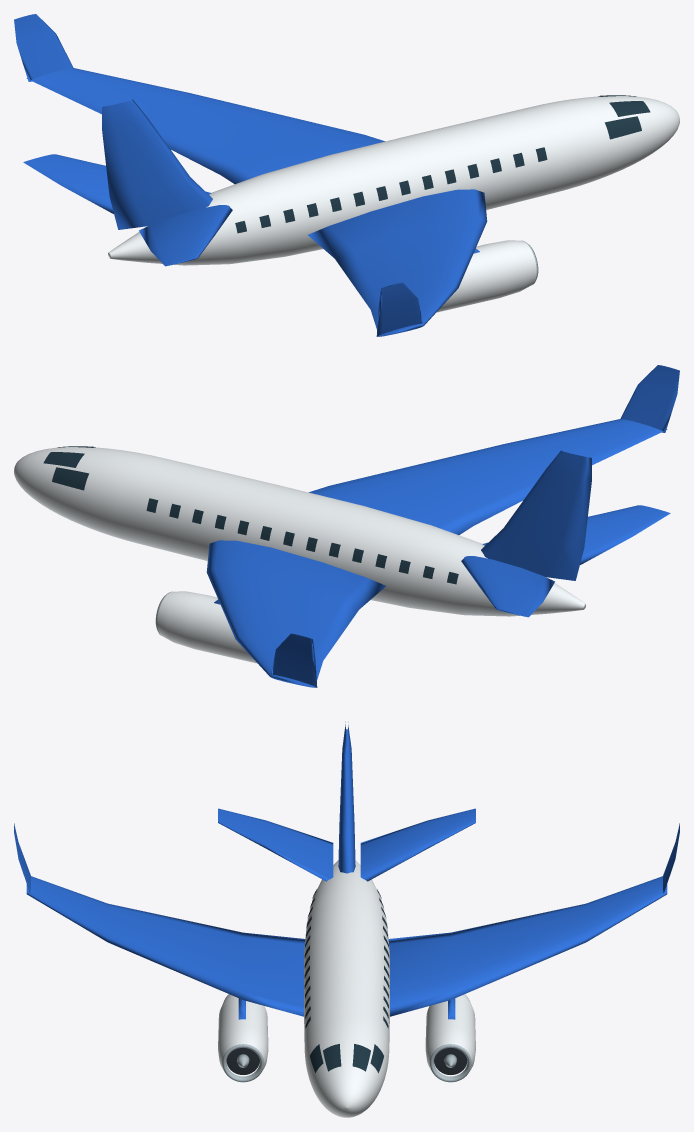
File: airplane.glb
3 renders of one model, top to bottom at view 1: azimuth 30°, elevation 25°; view 2: azimuth 150°, elevation 25°; view 3: azimuth 270°, elevation 25°, orthographic. The views are drawn at different scales.
Parts seen in each view (by area): view 1: fuselage, wing-right, wing-left, tail-fin, engine-left, tailplane-left, tailplane-right, winglet-right, winglet-left, cockpit-side-left; view 2: fuselage, wing-left, wing-right, tail-fin, engine-right, tailplane-right, tailplane-left, winglet-left, winglet-right, cockpit-side-right; view 3: fuselage, wing-left, wing-right, tailplane-left, tailplane-right, engine-left, engine-right, tail-fin, engine-intake-left, engine-intake-right.
Part boxes in pixels (x1,y1,x2,y2): fuselage: (108,96,679,265); wing-right: (26,68,384,183); wing-left: (308,189,487,336); tail-fin: (102,99,212,229); engine-left: (436,240,536,312); tailplane-left: (139,205,232,266); tailplane-right: (23,154,211,213); winglet-right: (14,14,73,81); winglet-left: (376,282,422,336); cockpit-side-left: (604,116,641,139); fuselage: (14,447,585,616); wing-left: (309,419,667,534); wing-right: (206,540,385,687); tail-fin: (481,450,591,580); engine-right: (157,591,257,663); tailplane-right: (461,556,554,617); tailplane-left: (482,505,670,564); winglet-left: (620,365,679,432); winglet-right: (271,633,317,687); cockpit-side-right: (52,467,89,490); fuselage: (304,860,389,1117); wing-left: (26,876,305,1016); wing-right: (388,876,667,1016); tailplane-left: (218,808,333,881); tailplane-right: (360,808,475,881); engine-left: (218,994,268,1071); engine-right: (425,994,475,1071); tail-fin: (338,721,355,873); engine-intake-left: (226,1047,259,1074); engine-intake-right: (434,1047,467,1074).
Size of the model in its own units: 6.78 by 2.54 by 7.38.
